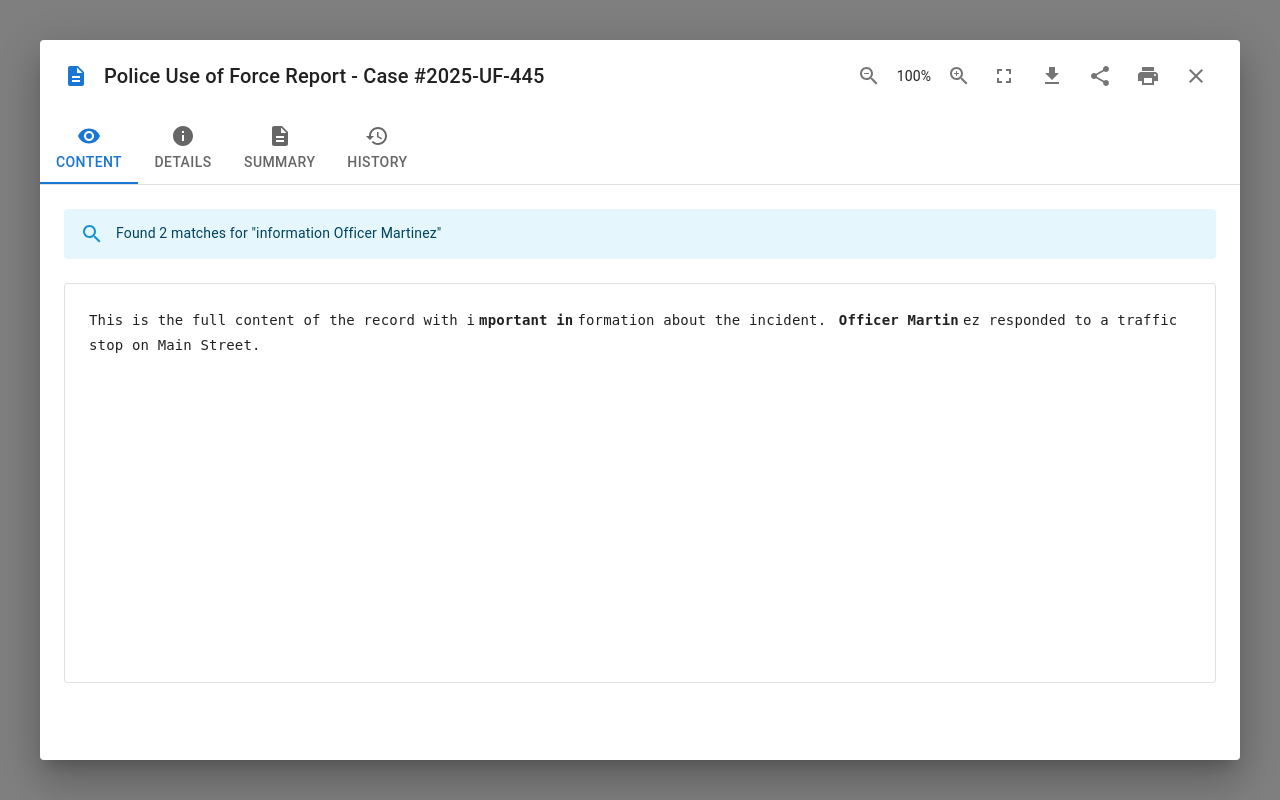
Test: RecordPreviewPanel › shows message when no summary available
This screenshot has width=1280, height=800.
Check: the heading "Police Use of Force Report - Case #2025-UF-445" is shown, box [104,64,545,88]
# Switch to summary tab
Click the tab "Summary".
click(280, 148)  # box [228,112,331,184]
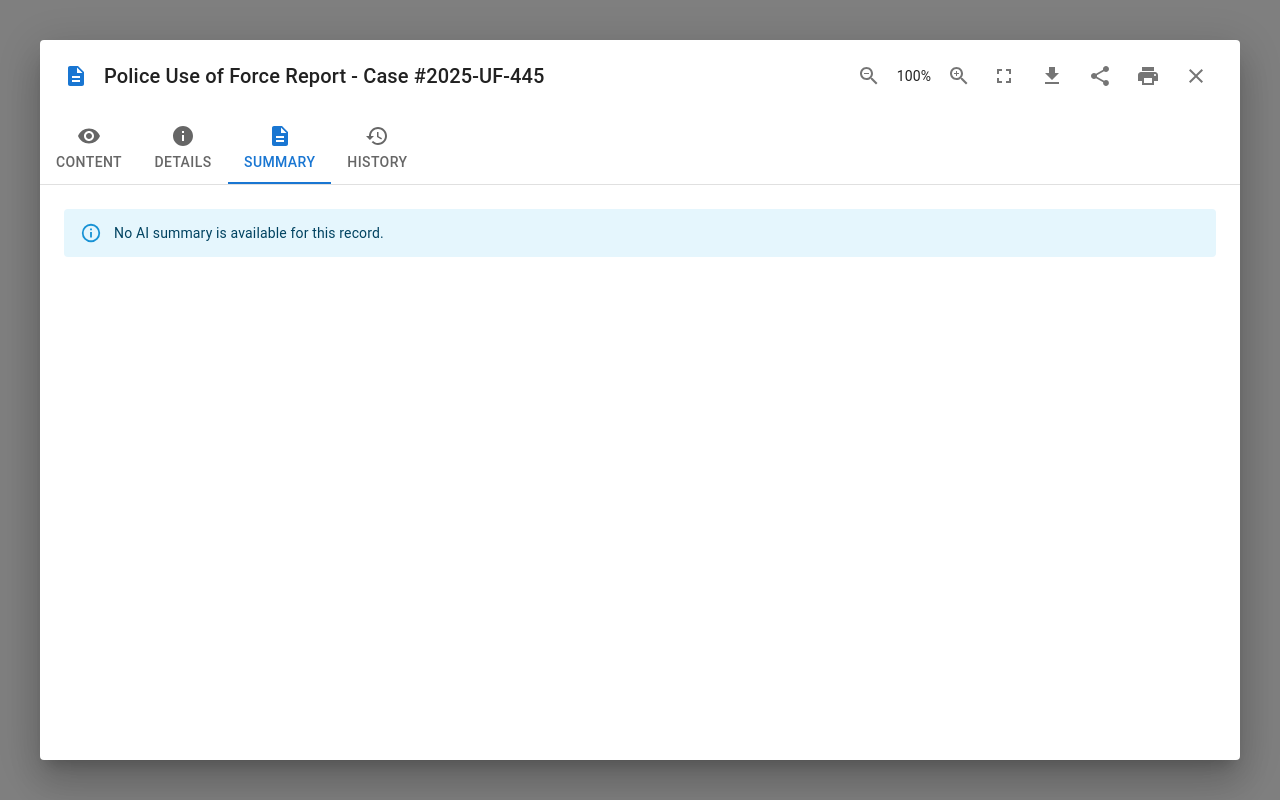
Check: the text "No AI summary is available for this record." is shown, box [114,225,384,241]
